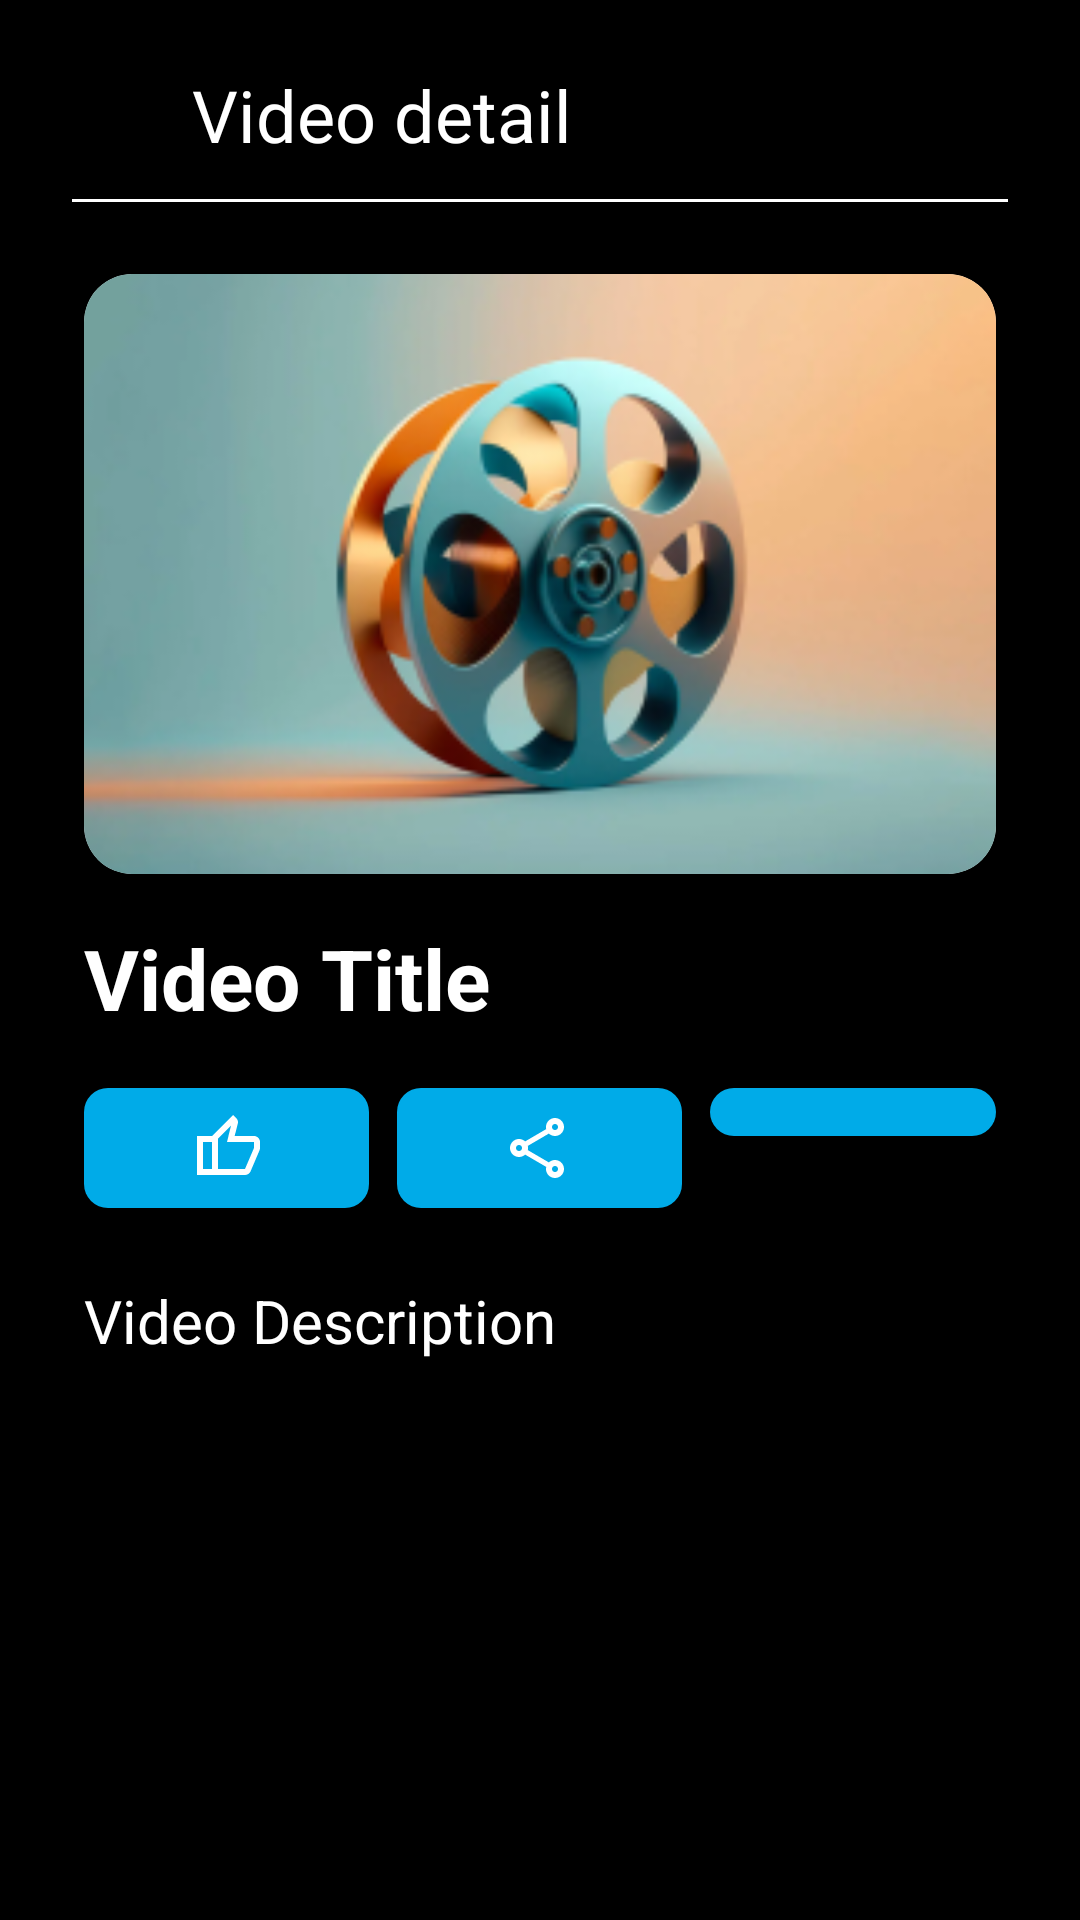

Named icons in this screenshot (1080 × 1920) and their bounding boxes, (x1, y1, x2, y2):
like: (84, 1088, 369, 1208)
share: (397, 1088, 682, 1208)
